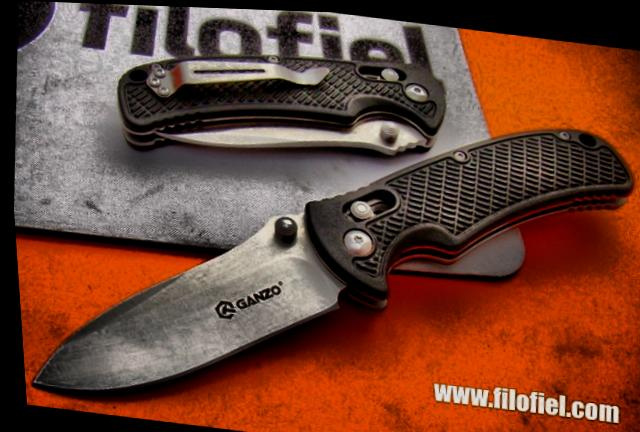knife: (8, 162, 367, 431)
